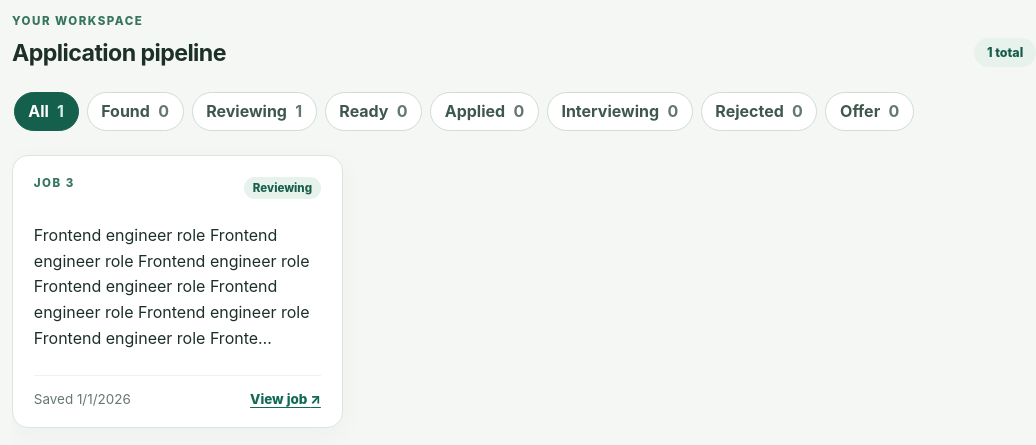
Scenario: JobList › filters the saved pipeline by status
Click the button "offer 0" at (870, 111), box [826,92,914,131]
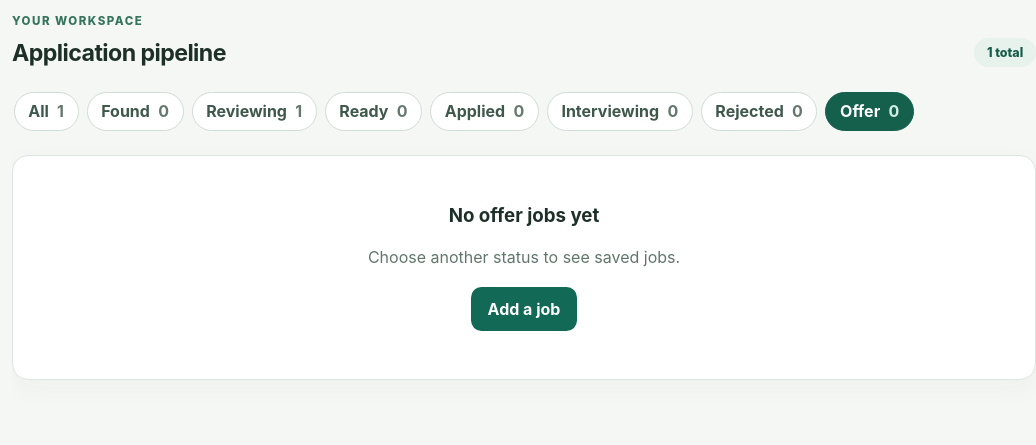
Now the heading "No offer jobs yet" is shown, box [449,204,599,227]
